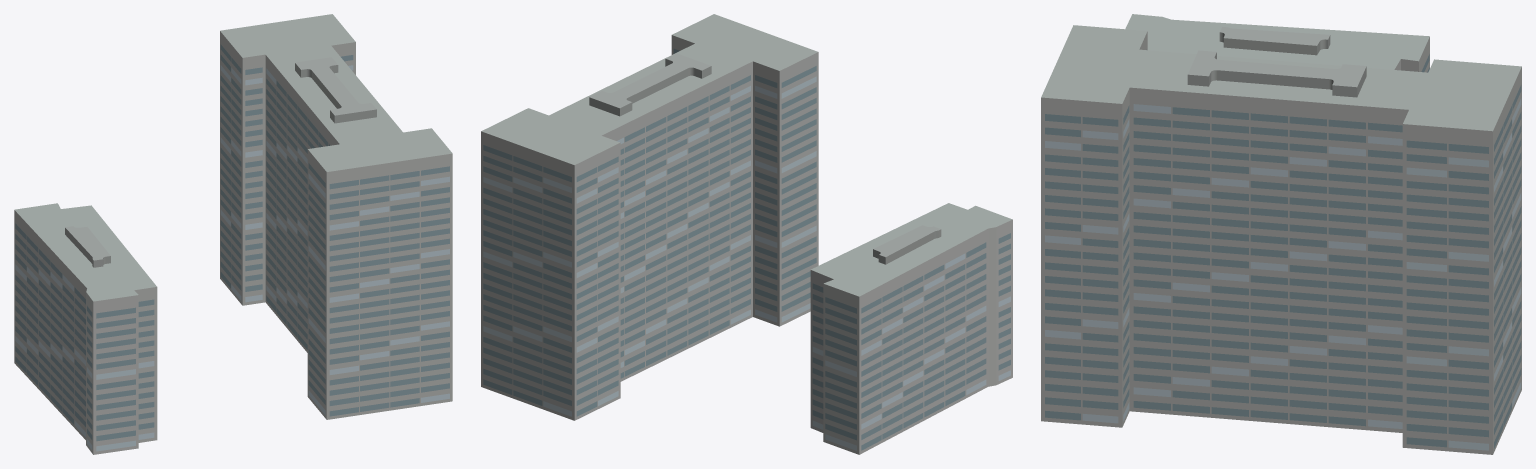
The model's file is apt-a15807601.glb.
The picture shows the model from 3 angles, left to right: view 1: azimuth 30°, elevation 25°; view 2: azimuth 150°, elevation 25°; view 3: azimuth 270°, elevation 25°; orthographic projection. The views are drawn at different scales.
Visible parts, largest first — view 1: apt-a15807601; view 2: apt-a15807601; view 3: apt-a15807601.
Part boxes in pixels (x1,y1,x2,y2): apt-a15807601: (14, 14, 452, 454); apt-a15807601: (481, 14, 1012, 454); apt-a15807601: (1041, 14, 1521, 454).
Size of the model in its own units: 120 by 78 by 102.
